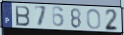2: (104, 8, 119, 31)
6: (52, 5, 65, 30)
7: (33, 5, 48, 29)
8: (70, 8, 82, 29)
B: (14, 5, 31, 28)
O: (86, 8, 102, 31)
